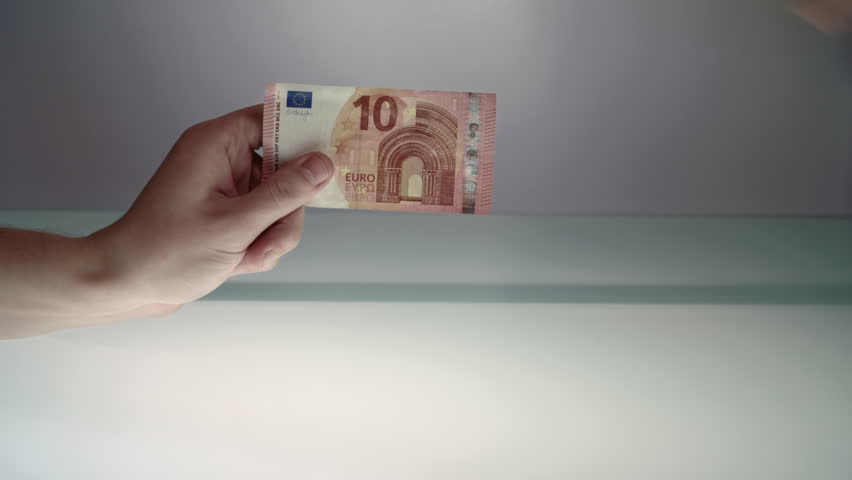billete: (261, 80, 498, 216)
